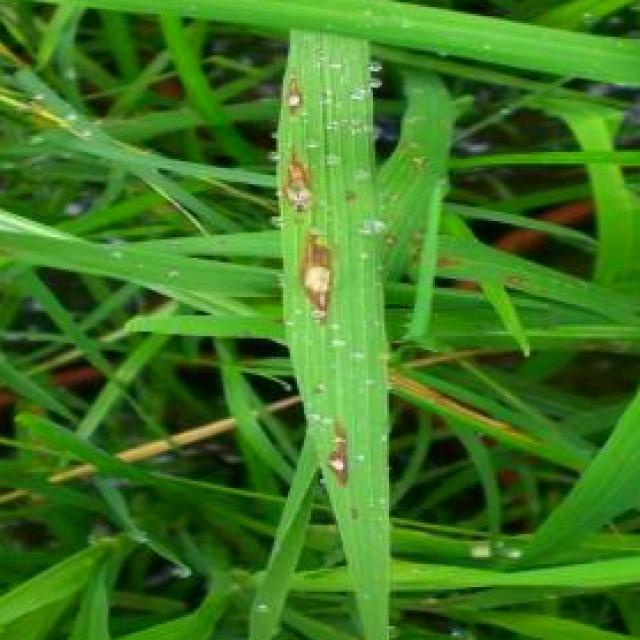Leaf_Blast: (276, 140, 346, 224), (292, 218, 346, 310), (313, 419, 371, 502), (270, 60, 330, 134)
